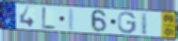4: (19, 5, 37, 29)
6: (90, 9, 109, 34)
G: (117, 11, 138, 35)
I: (67, 7, 76, 32), (140, 12, 149, 36)
L: (41, 6, 56, 30)
